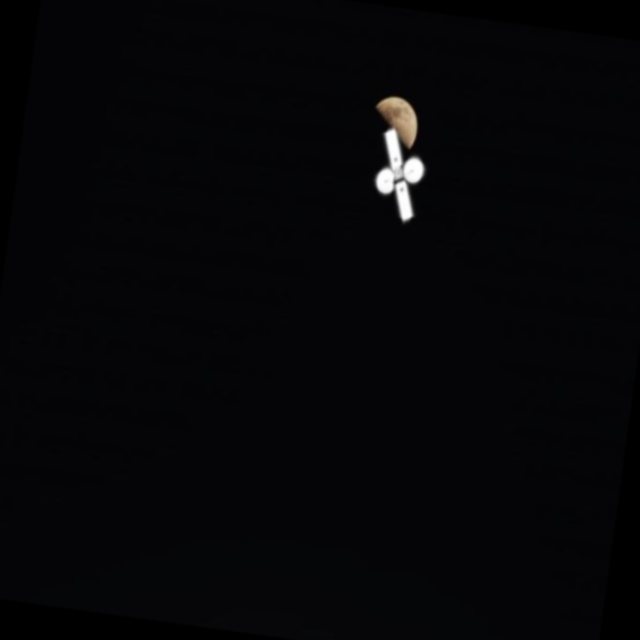satellite: (360, 125, 447, 235)
